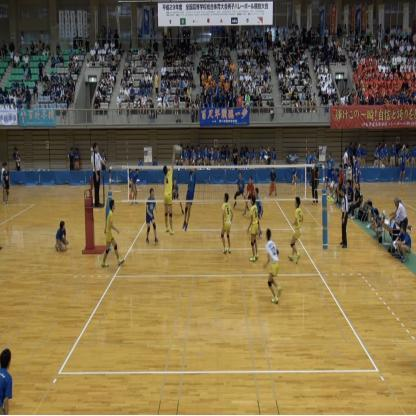spike: (160, 140, 183, 240)
